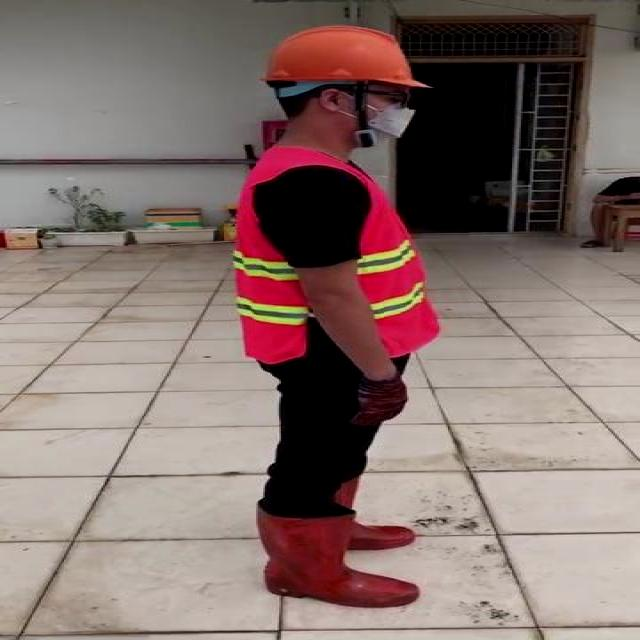boots: (254, 503, 420, 608), (340, 477, 420, 551)
face_mask: (340, 80, 423, 146)
hand_glove: (348, 376, 409, 424)
head_helmet: (258, 20, 416, 86)
person: (212, 22, 460, 611)
vest: (235, 147, 437, 364)
